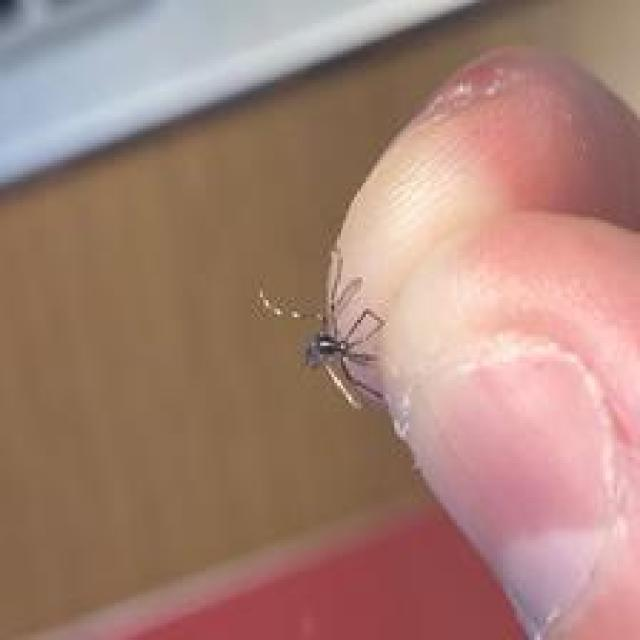Aedes albopictus: (252, 247, 392, 413)
